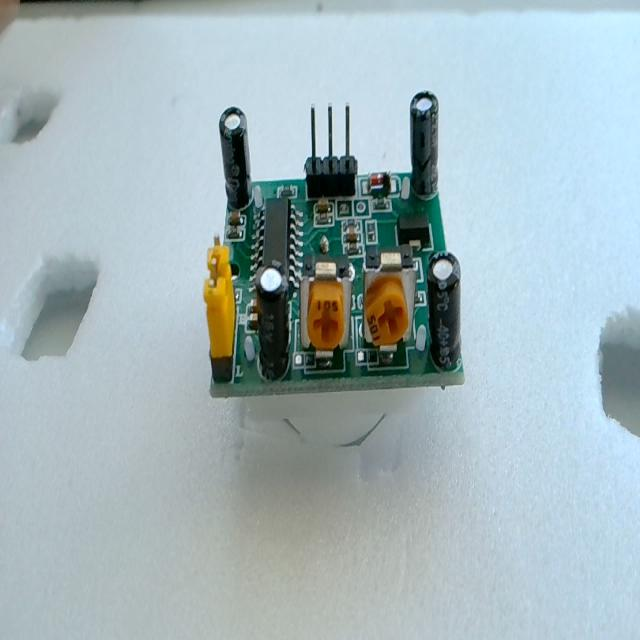Electrolytic capacitor: (427, 251, 462, 371), (255, 263, 291, 378), (218, 105, 252, 214), (408, 88, 440, 198)
IC: (251, 198, 298, 292)
pinheader: (303, 103, 358, 199)
